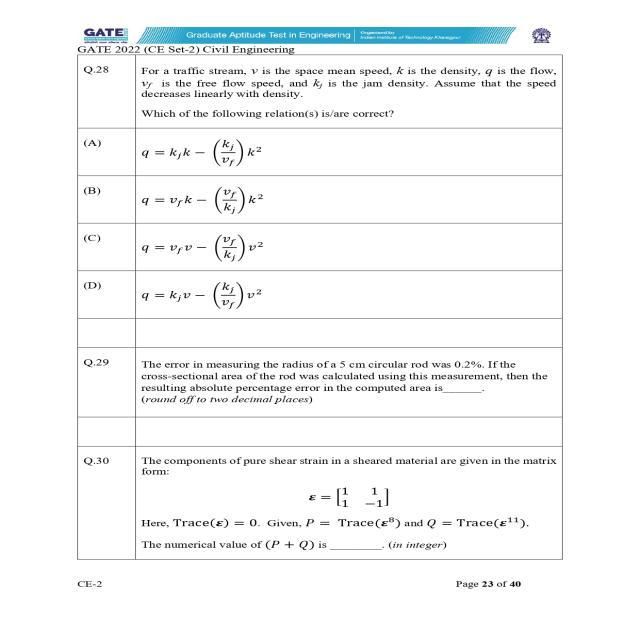Answer_Block: (79, 130, 562, 318)
Question_Answer_Block: (79, 57, 562, 318), (81, 450, 562, 560), (77, 346, 562, 418)
Question_Block: (81, 451, 560, 558), (77, 347, 562, 417), (79, 57, 562, 126)
Question_Paper_Area: (79, 56, 562, 560)
